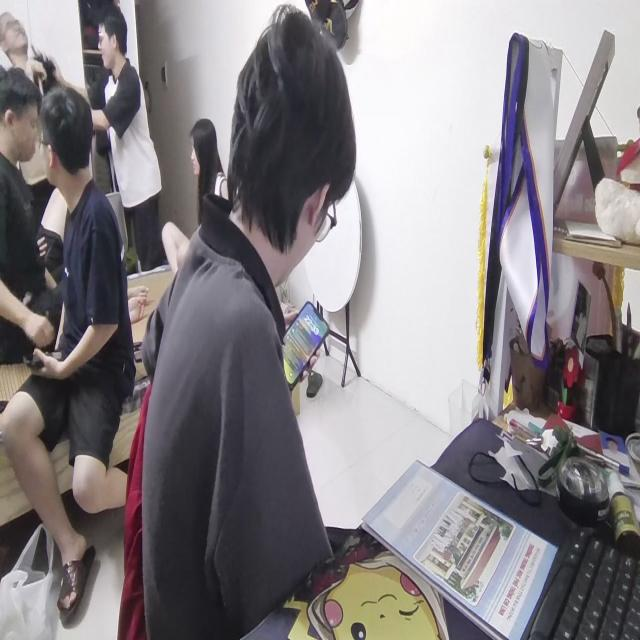book: (356, 446, 560, 640)
extra_person: (2, 87, 141, 613), (88, 12, 160, 252), (1, 67, 56, 371), (165, 120, 223, 246)
student: (133, 8, 353, 640)
